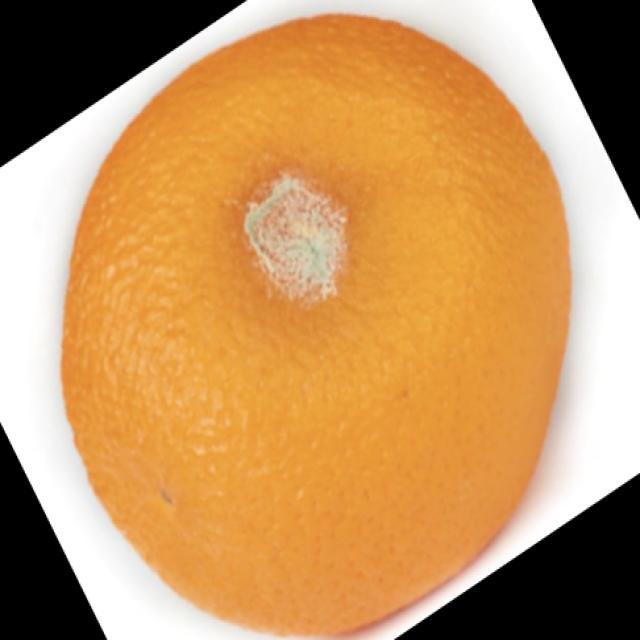sedikit-busuk: (62, 16, 570, 633), (244, 174, 346, 301)
